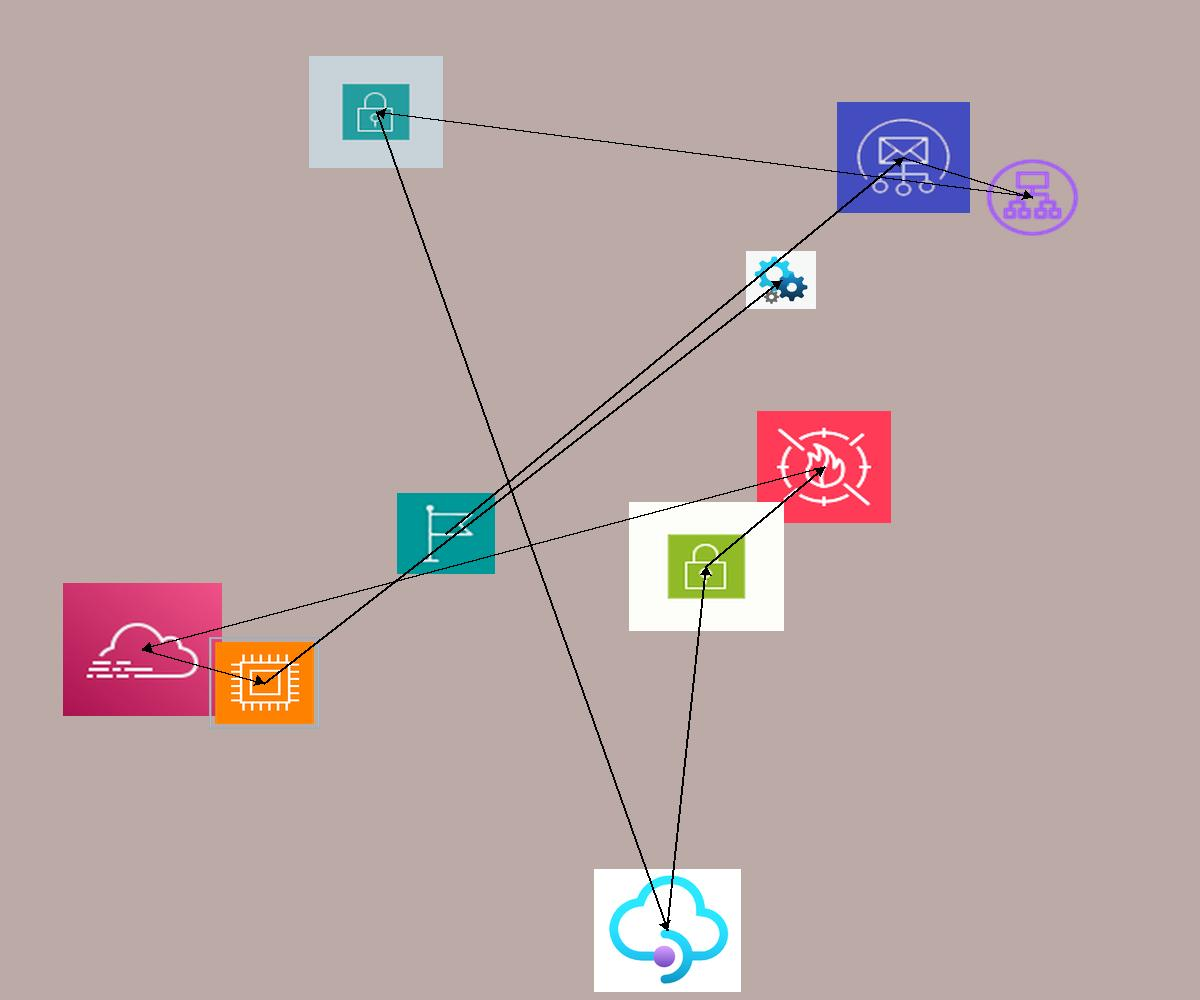AWS-Category_Compute: (209, 637, 320, 729)
AWS-CloudTrail: (63, 583, 222, 716)
AWS-Private-subnet: (309, 56, 443, 168)
AWS-Public-subnet: (629, 502, 784, 631)
AWS-Region: (397, 493, 495, 574)
AWS-Res_Elastic-Load-Balancing_Application-Load-Balancer: (983, 156, 1082, 239)
AWS-Simple-Email-Service: (837, 102, 970, 213)
AWS-WAF: (757, 411, 891, 523)
Azure_api: (746, 251, 816, 309)
Azure_api_gateway: (594, 869, 741, 992)
